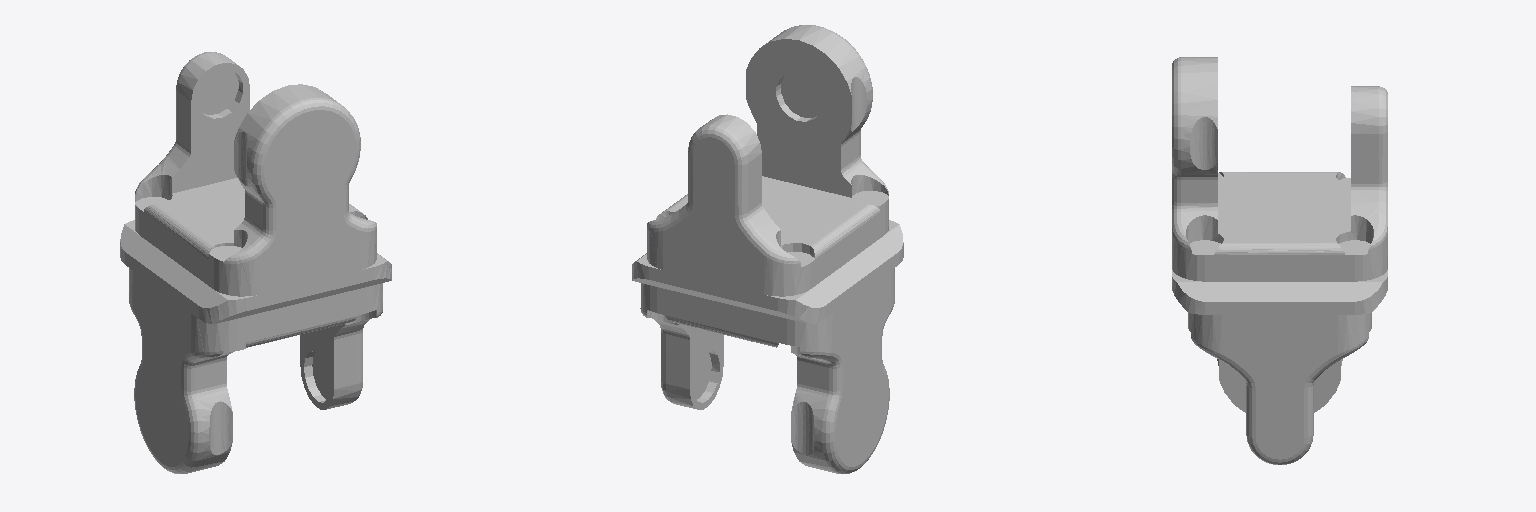
File: ll_dg_1_2_c_mesh_World_mesh.obj
The picture shows the model from 3 angles: view 1: azimuth 30°, elevation 25°; view 2: azimuth 150°, elevation 25°; view 3: azimuth 270°, elevation 25°; orthographic projection.
Size of the model in its own units: 0.0224 by 0.044 by 0.0224.